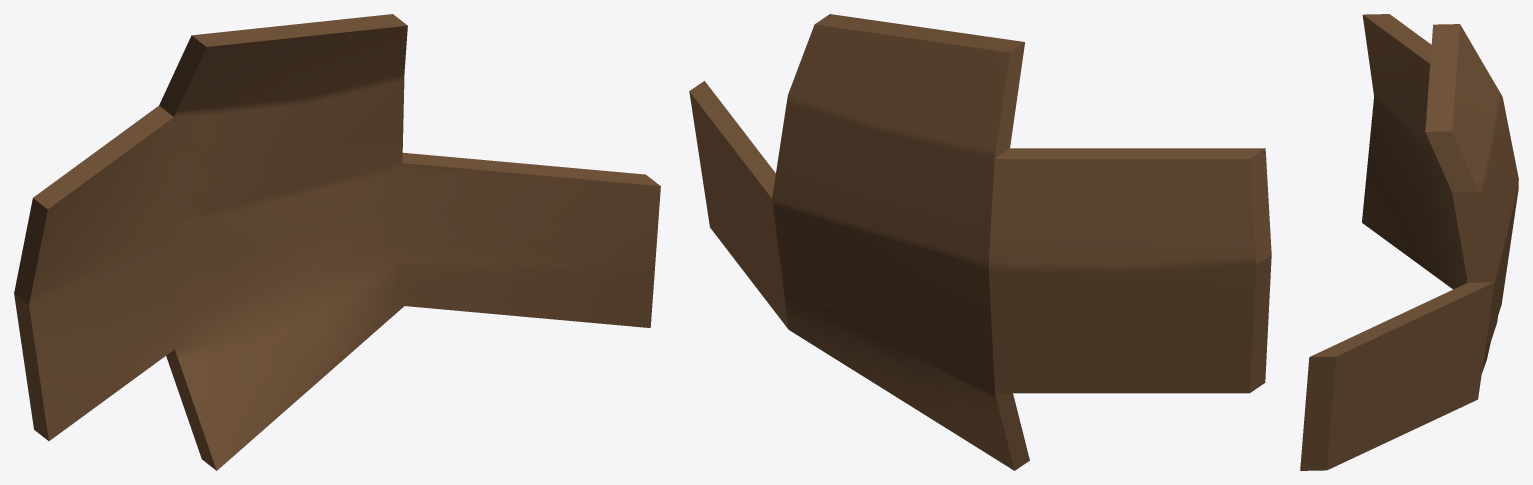
The model's file is PotShard1.fbx.
The picture shows the model from 3 angles, left to right: view 1: azimuth 30°, elevation 25°; view 2: azimuth 150°, elevation 25°; view 3: azimuth 270°, elevation 25°; orthographic projection. The views are drawn at different scales.
Visible parts, largest first — view 1: PotShard1; view 2: PotShard1; view 3: PotShard1.
Boxes of the visible parts, box(x1,y1,x2,y2) form: PotShard1: box(14, 14, 660, 470); PotShard1: box(689, 14, 1271, 470); PotShard1: box(1300, 14, 1518, 470).
Bounding box in the file's own units: 0.9797 × 0.6596 × 0.3473.
